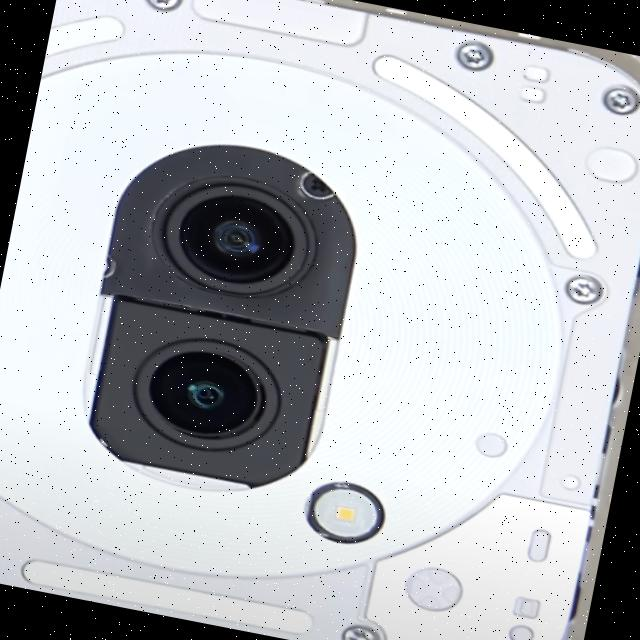Torx: (454, 38, 496, 73), (601, 84, 640, 117), (563, 274, 602, 306), (339, 622, 383, 640), (146, 0, 182, 11)
